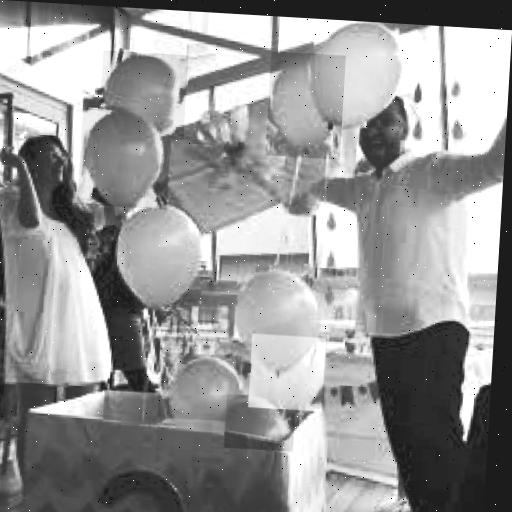balloon: (309, 19, 408, 133), (112, 200, 204, 312), (233, 261, 318, 376), (77, 108, 172, 210), (266, 51, 346, 160), (98, 50, 189, 140), (248, 334, 326, 412), (158, 352, 242, 422), (224, 394, 296, 452)
